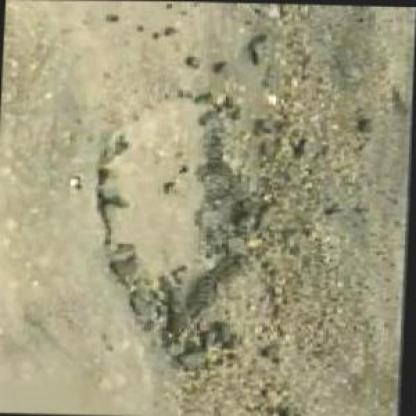pothole: (89, 90, 263, 340)
